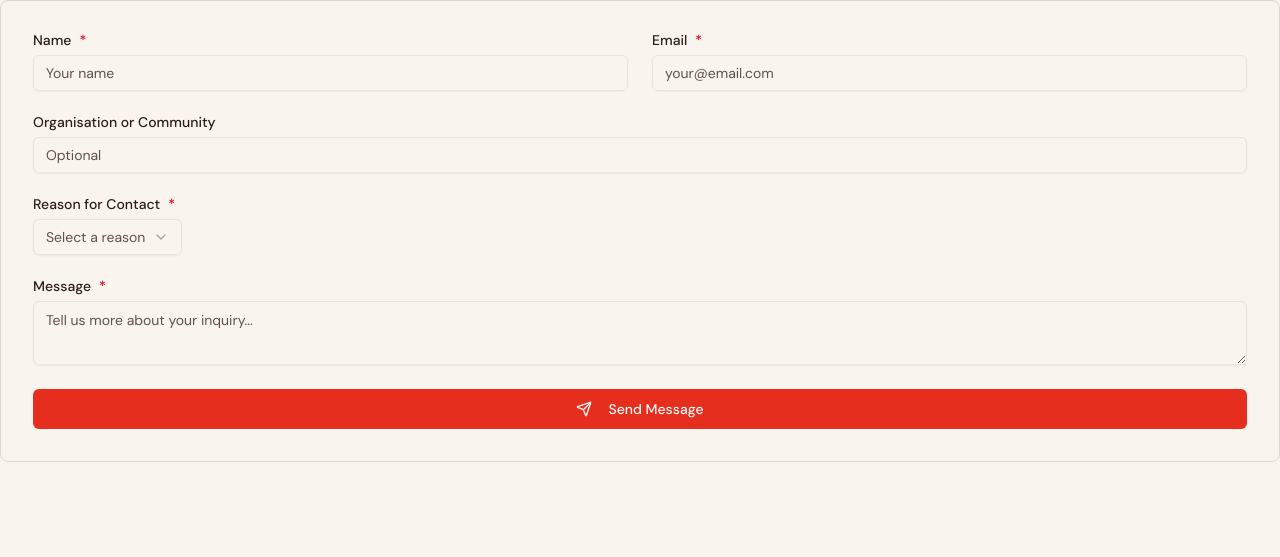
Scenario: ContactForm › shows a success message after sending
The width and height of the screenshot is (1280, 557).
Type "Jane Doe" into the field labelled "Name *".
click(330, 73); type("Jane Doe")  # box [33, 55, 628, 91]
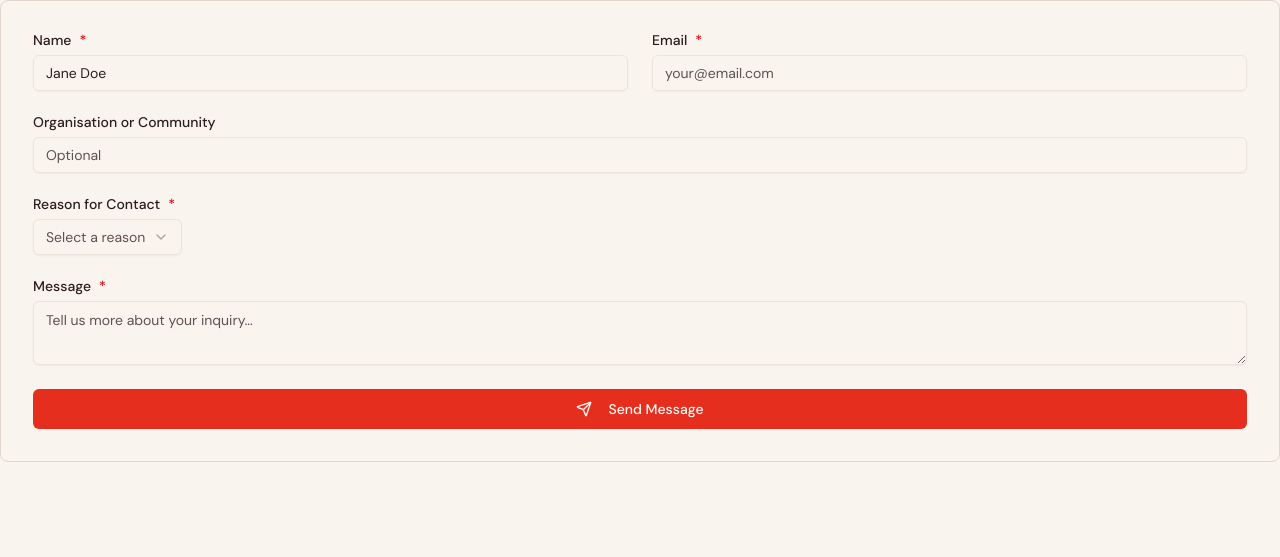
Type "jane@example.com" into the field labelled "Email *".
click(950, 73); type("jane@example.com")  # box [652, 55, 1247, 91]
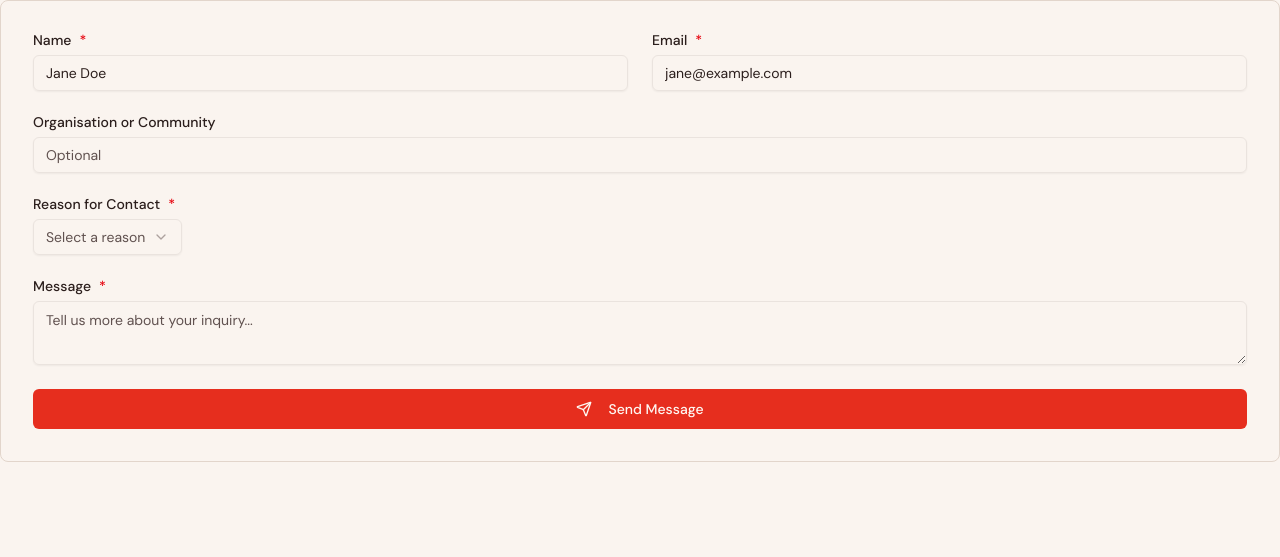
Click the dropdown named "reason for contact".
click(108, 237)  # box [33, 219, 182, 255]
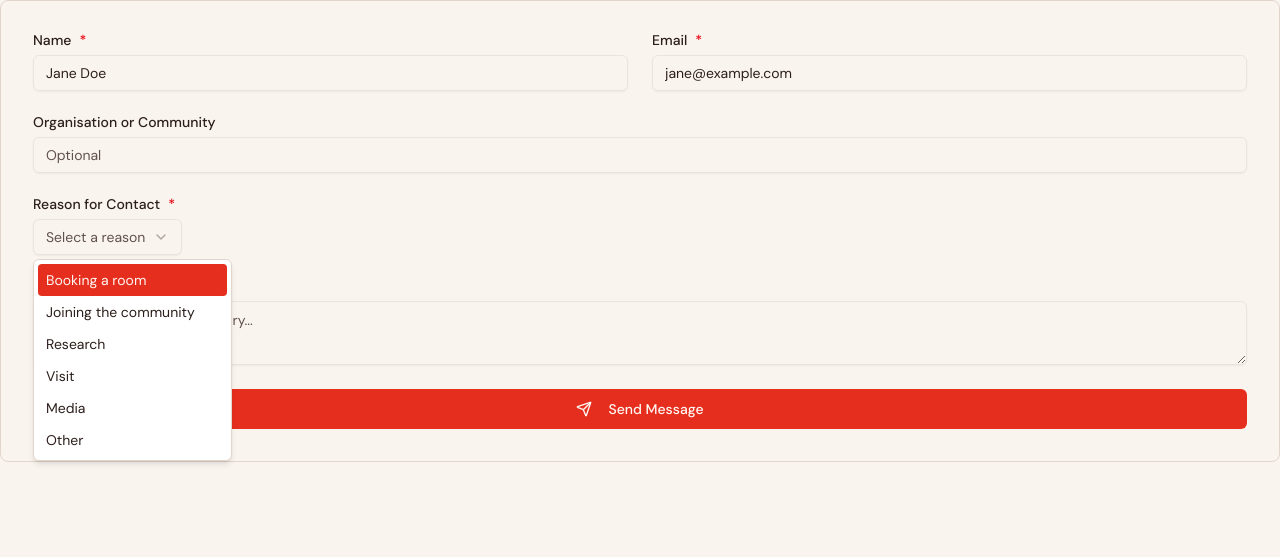
Click the option "Visit".
click(60, 376)  # box [46, 367, 75, 385]
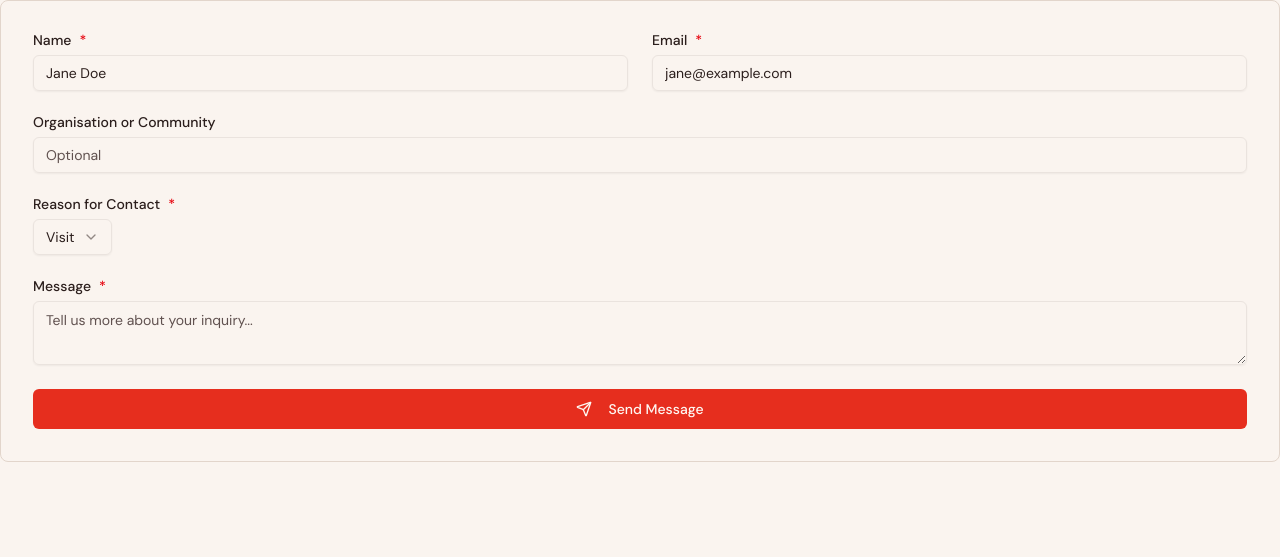
Type "Hello team, I would love to visit the space next week and learn more about the community, membership options, room availability, and the best time to drop by for a first conversation." into the text box labelled "Message *".
click(640, 333); type("Hello team, I would love to visit the space next week and learn more about the community, membership options, room availability, and the best time to drop by for a first conversation.")  # box [33, 301, 1247, 365]
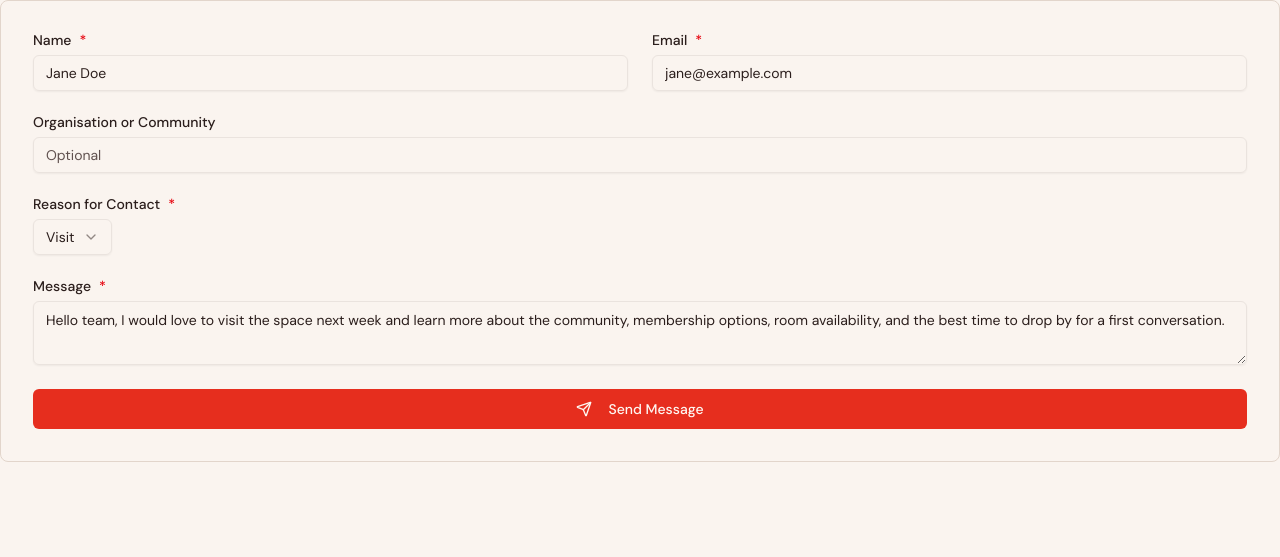
Click the button "Send Message".
click(640, 409)  # box [33, 389, 1247, 429]
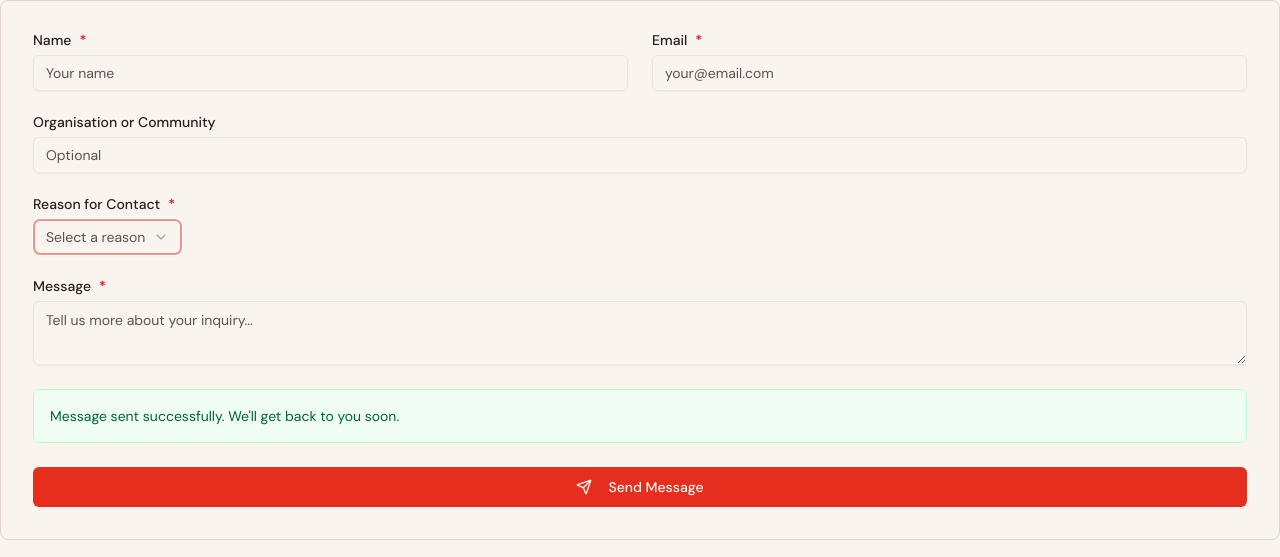
Result: the message shows "Message sent successfully" at [50, 407, 399, 425]
